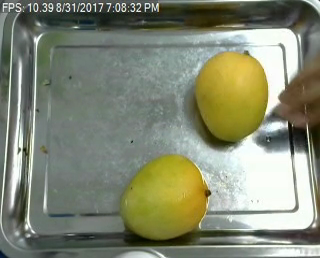Mango: (119, 155, 208, 239), (194, 51, 269, 138)
